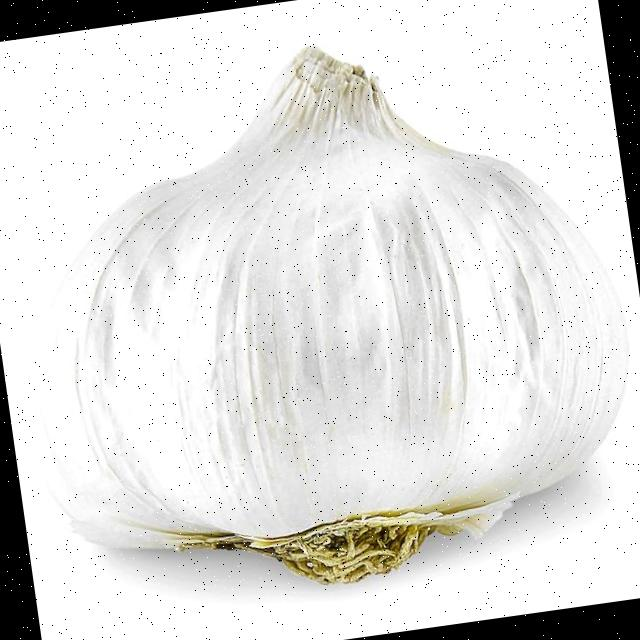garlic: (44, 48, 627, 582)
